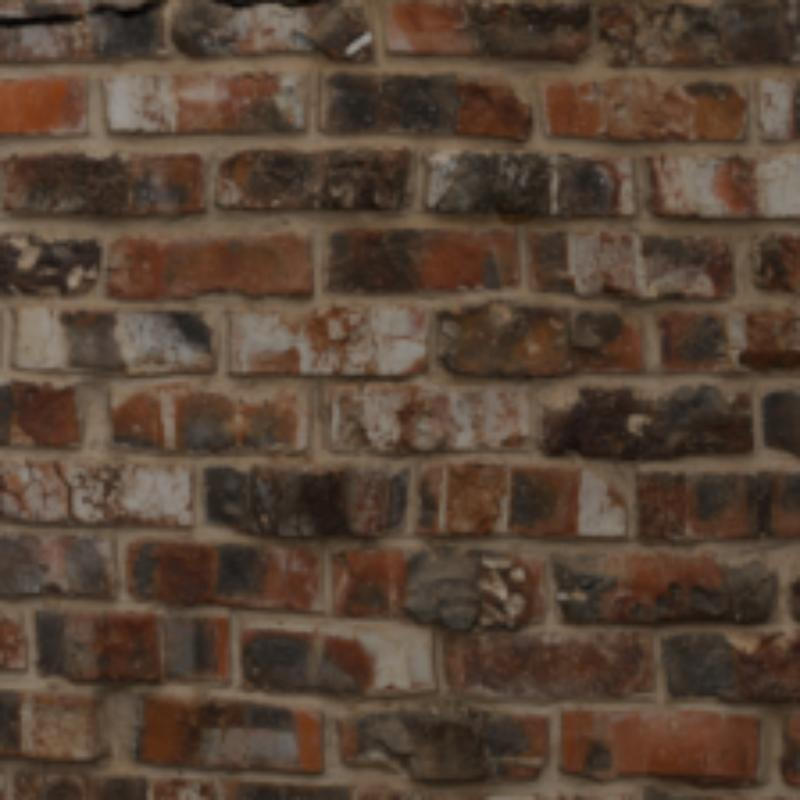crack: (0, 0, 164, 25), (54, 461, 82, 525), (261, 0, 321, 7), (207, 0, 261, 7)
